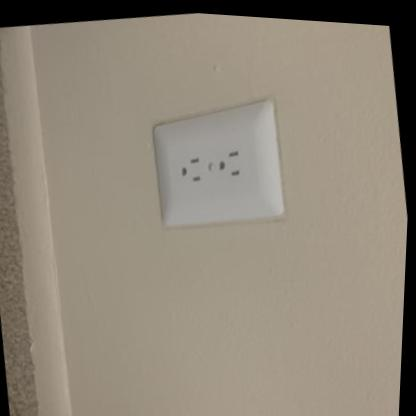OUTLET: (141, 88, 291, 236)
